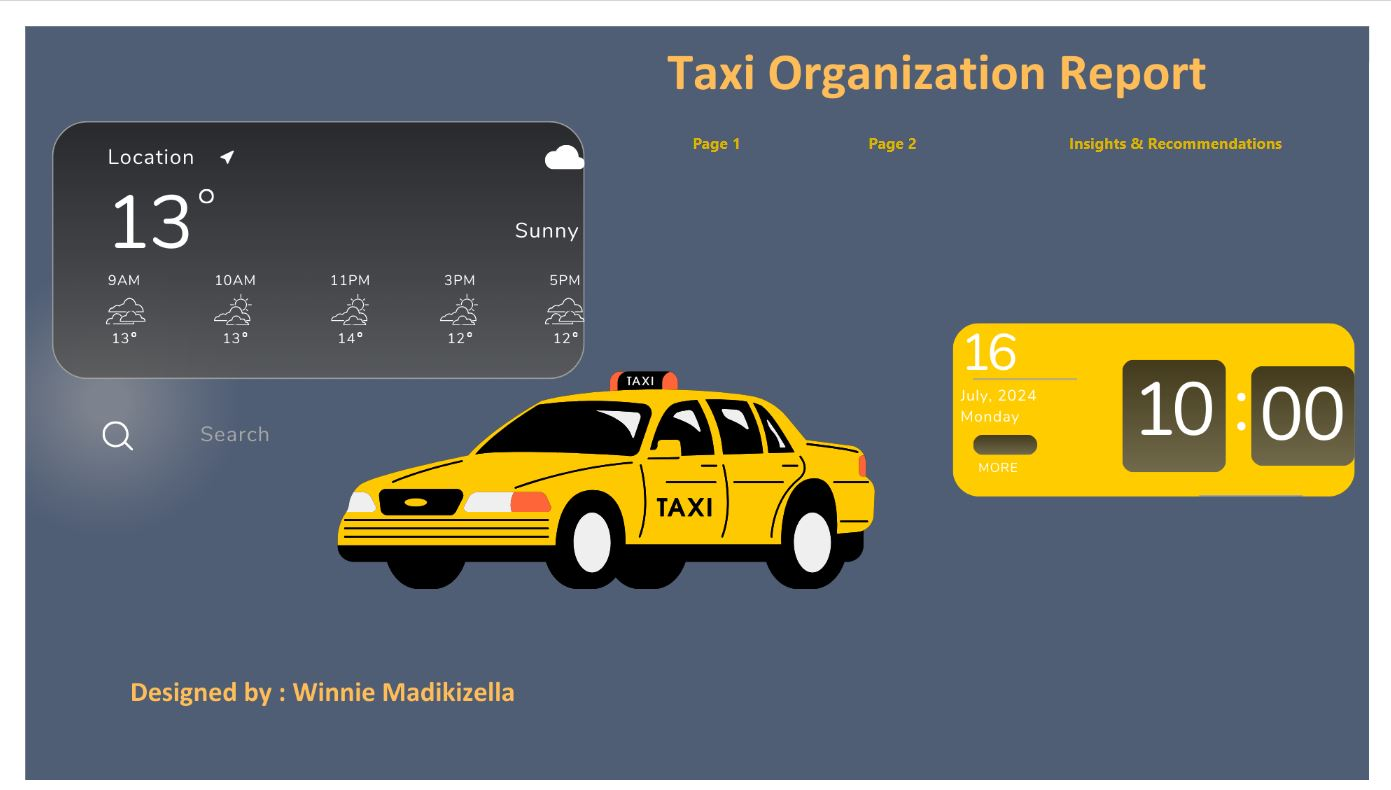

This screenshot's page, from the dashboard's own definition file:
{"tool":"powerbi","page":{"name":"Homepage","canvas":[1280,720],"ordinal":0},"visuals":[{"type":"actionButton","box":[575.2,90.7,167.2,40.6],"z":0},{"type":"actionButton","box":[742.4,90.7,167.2,40.6],"z":1000},{"type":"actionButton","box":[925.3,90.7,340.7,40.6],"z":2000}]}

Visuals, with their boxes in screenshot pixels (x1, y1, x2, y2), scaled from the page's 1280x720 canvas onto the 1391x790 screenshot:
actionButton: rect(625, 100, 807, 144)
actionButton: rect(807, 100, 988, 144)
actionButton: rect(1006, 100, 1376, 144)
